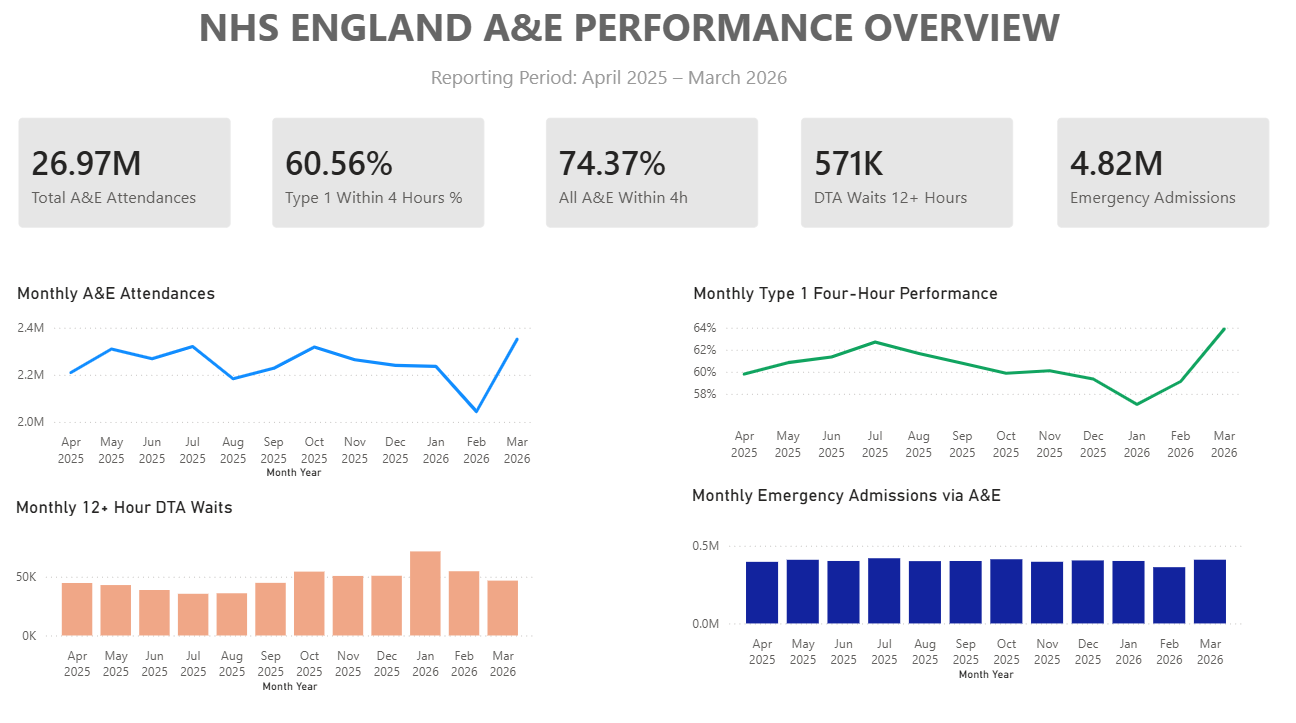

The page's visual inventory and layout, read from the dashboard file:
{"tool":"powerbi","page":{"name":"A&E Performance Overview","canvas":[1280,720],"ordinal":0},"visuals":[{"type":"textbox","box":[191.4,0,995.7,62.9],"z":0},{"type":"textbox","box":[420,62.9,595.7,35.7],"z":1000},{"type":"cardVisual","fields":{"Data":["FactAEPerformance.Total A&E Attendances"]},"box":[0,98.6,250,150],"z":2000},{"type":"cardVisual","fields":{"Data":["FactAEPerformance.Type 1 Within 4 Hours %"]},"box":[248.6,98.6,250,150],"z":3000},{"type":"cardVisual","fields":{"Data":["FactAEPerformance.DTA Waits 12+ Hours"]},"box":[765.7,98.6,250,150],"z":4000},{"type":"cardVisual","fields":{"Data":["FactAEPerformance.Emergency Admissions via A&E"]},"box":[1015.7,98.6,250,150],"z":5000},{"type":"cardVisual","fields":{"Data":["FactAEPerformance.All Departments Within 4 Hours %"]},"box":[515.7,98.6,250,150],"z":6000},{"type":"lineChart","title":"Monthly A&E Attendances","fields":{"Category":["DimDate.Month Year"],"Y":["FactAEPerformance.Total A&E Attendances"]},"box":[14.3,281.4,517.1,197.1],"z":7000},{"type":"lineChart","title":"Monthly Type 1 Four-Hour Performance","fields":{"Category":["DimDate.Month Year"],"Y":["FactAEPerformance.Type 1 Within 4 Hours %"]},"box":[675.7,281.4,548.6,181.4],"z":8000},{"type":"clusteredColumnChart","title":"Monthly 12+ Hour DTA Waits","fields":{"Category":["DimDate.Month Year"],"Y":["FactAEPerformance.DTA Waits 12+ Hours"]},"box":[14,490.5,517,197],"z":9000},{"type":"clusteredColumnChart","title":"Monthly Emergency Admissions via A&E","fields":{"Category":["DimDate.Month Year"],"Y":["FactAEPerformance.Emergency Admissions via A&E"]},"box":[675.1,478.9,548.9,196.2],"z":10000}]}

Visuals, with their boxes in screenshot pixels (x1, y1, x2, y2), scaled from the page's 1280x720 canvas onto the 1296x723 screenshot:
textbox: crop(194, 0, 1202, 63)
textbox: crop(425, 63, 1028, 99)
cardVisual - FactAEPerformance.Total A&E Attendances: crop(0, 99, 253, 250)
cardVisual - FactAEPerformance.Type 1 Within 4 Hours %: crop(252, 99, 505, 250)
cardVisual - FactAEPerformance.DTA Waits 12+ Hours: crop(775, 99, 1028, 250)
cardVisual - FactAEPerformance.Emergency Admissions via A&E: crop(1028, 99, 1282, 250)
cardVisual - FactAEPerformance.All Departments Within 4 Hours %: crop(522, 99, 775, 250)
"Monthly A&E Attendances" lineChart: crop(14, 283, 538, 480)
"Monthly Type 1 Four-Hour Performance" lineChart: crop(684, 283, 1240, 465)
"Monthly 12+ Hour DTA Waits" clusteredColumnChart: crop(14, 493, 538, 690)
"Monthly Emergency Admissions via A&E" clusteredColumnChart: crop(684, 481, 1239, 678)
